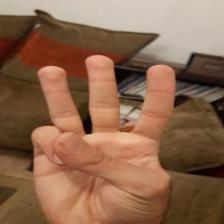five: (23, 52, 178, 216)
